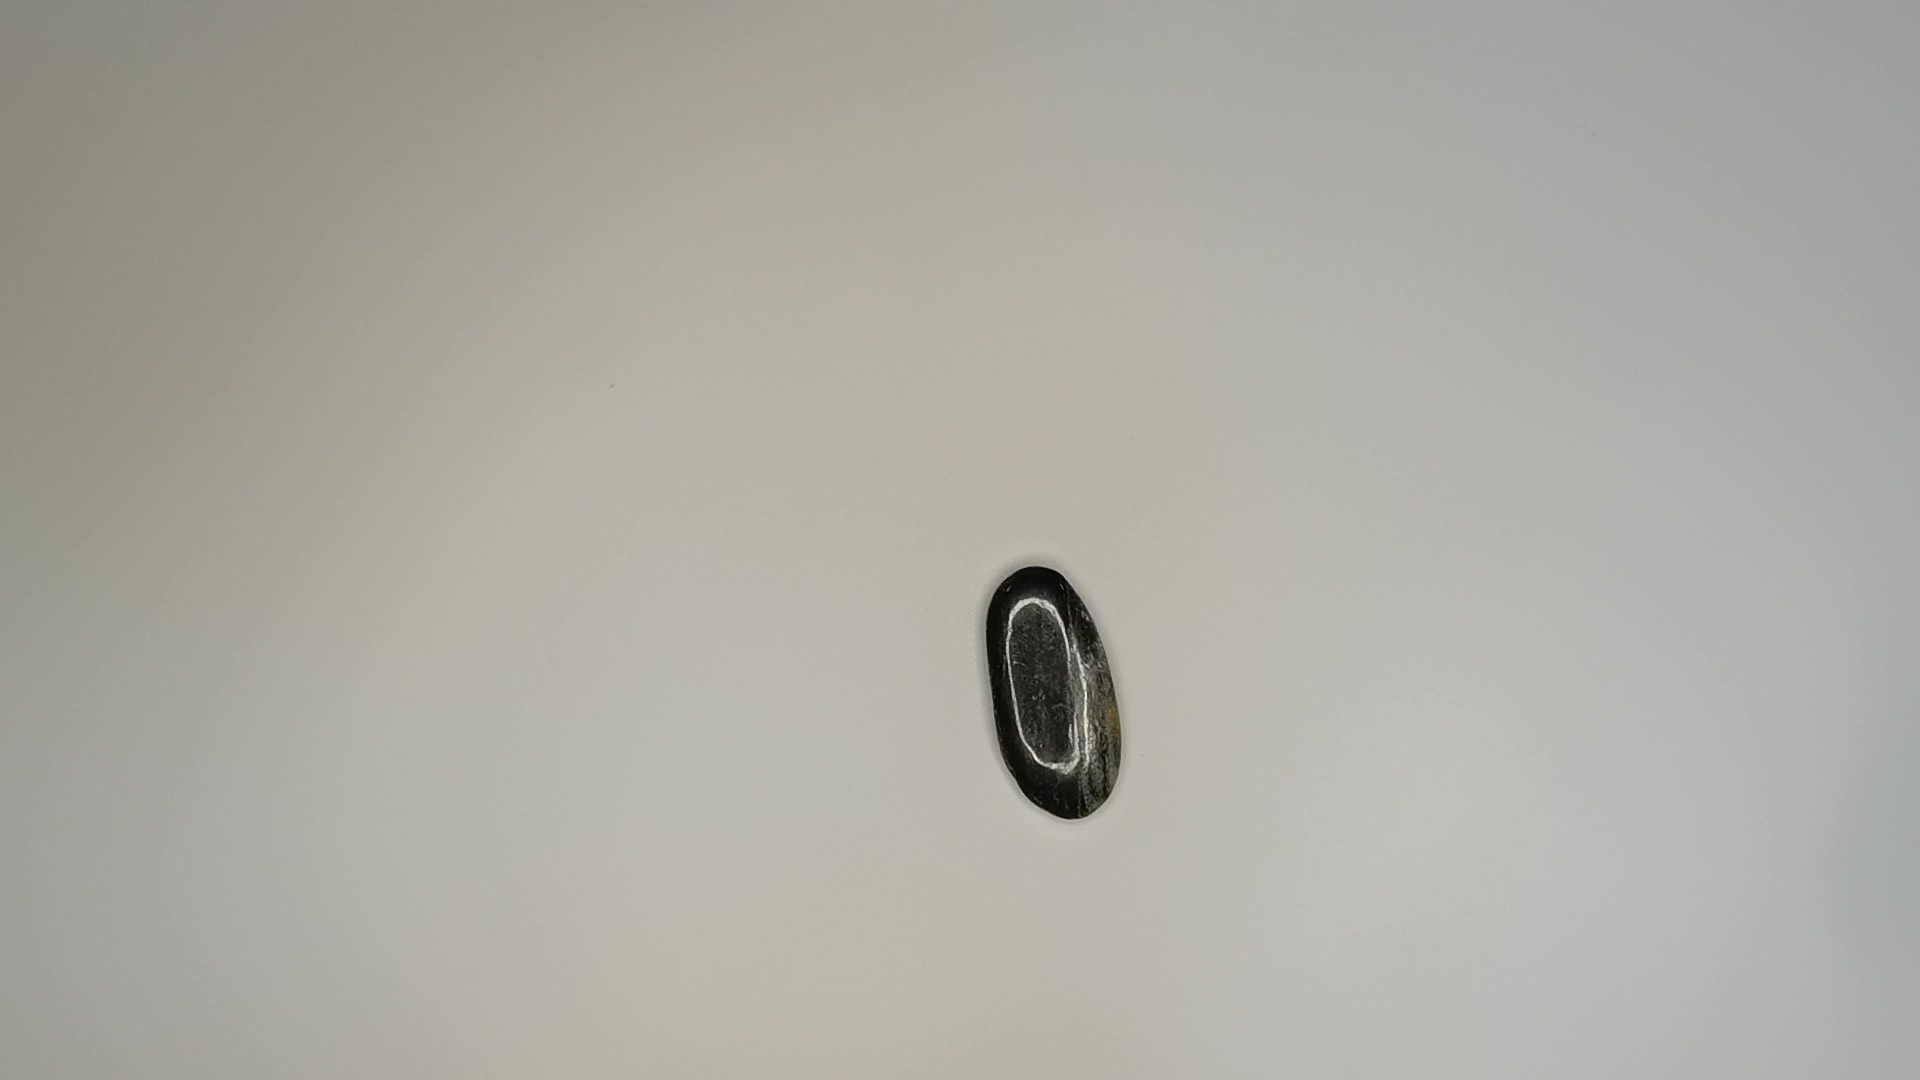ceramic: (980, 563, 1129, 824)
